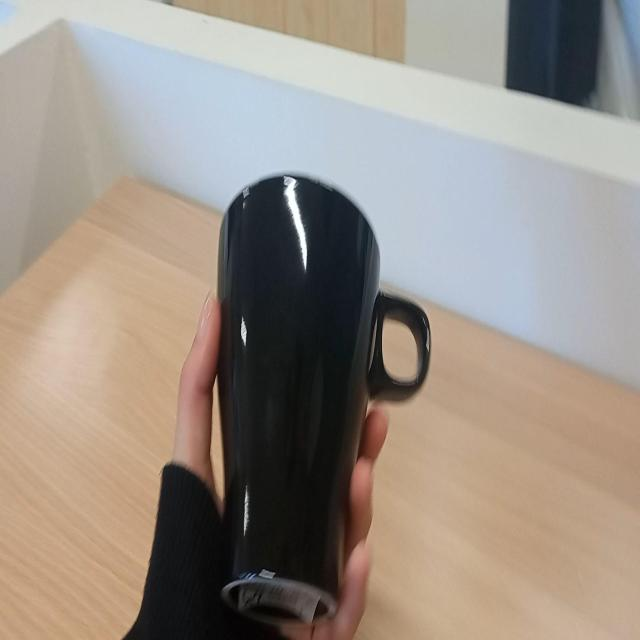cup: (209, 163, 436, 623)
